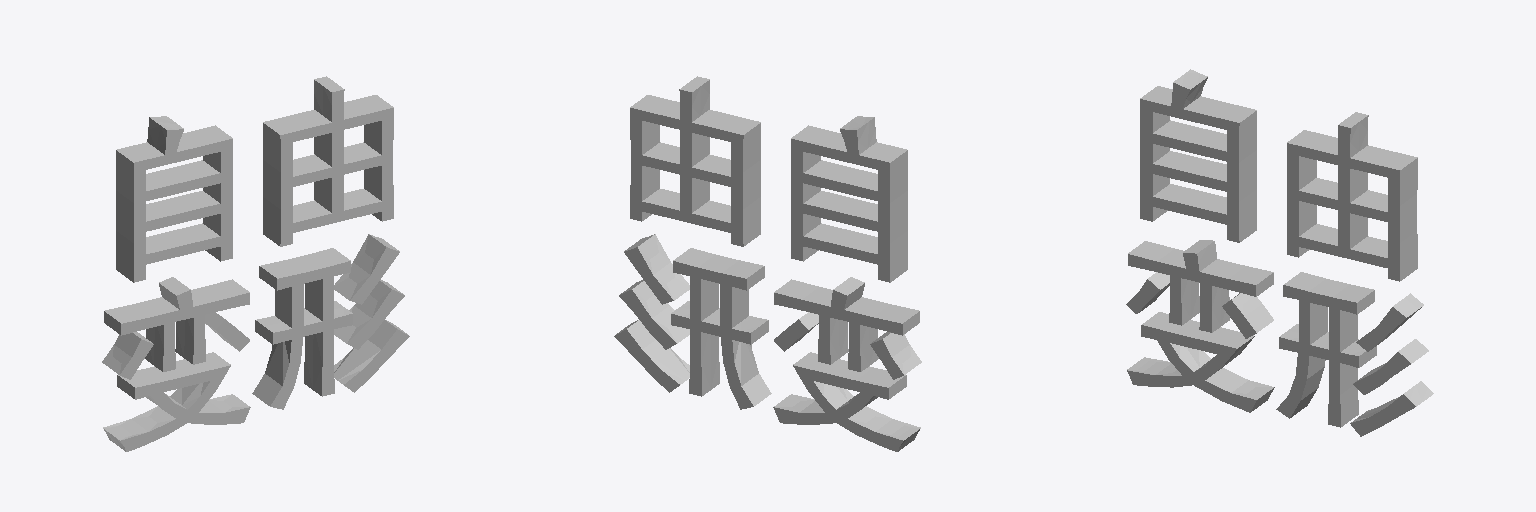
Rendered from deformation1.obj.
3 views of the same model, side by side, from view 1: azimuth 30°, elevation 25°; view 2: azimuth 150°, elevation 25°; view 3: azimuth 330°, elevation 25° (orthographic).
Parts seen in each view (by area): view 1: Default object_29, Default object_55, Default object_81, Default object_115, Default object_145, Default object_45, Default object_17, Default object_83, Default object_98, Default object_101, Default object_67, Default object_80 (+25 smaller); view 2: Default object_30, Default object_56, Default object_82, Default object_116, Default object_146, Default object_45, Default object_17, Default object_83, Default object_98, Default object_101, Default object_67, Default object_80 (+25 smaller); view 3: Default object_29, Default object_55, Default object_81, Default object_115, Default object_145, Default object_51, Default object_23, Default object_101, Default object_80, Default object_41, Default object_37, Default object_33 (+21 smaller).
Part boxes in pixels (x1,y1,x2,y2): Default object_29: (280, 89, 393, 246); Default object_55: (134, 129, 232, 282); Default object_81: (270, 261, 352, 409); Default object_115: (121, 365, 250, 451); Default object_145: (121, 290, 249, 371); Default object_45: (116, 150, 133, 282); Default object_17: (263, 123, 280, 245); Default object_83: (334, 320, 396, 384); Default object_98: (334, 234, 385, 300); Default object_101: (118, 352, 230, 387); Default object_67: (252, 340, 291, 405); Default object_80: (260, 248, 350, 278); Default object_30: (630, 89, 743, 246); Default object_56: (791, 129, 889, 282); Default object_82: (671, 261, 753, 409); Default object_116: (773, 365, 902, 451); Default object_146: (774, 290, 902, 371); Default object_45: (890, 150, 907, 282); Default object_17: (743, 123, 760, 245); Default object_83: (627, 320, 689, 384); Default object_98: (638, 234, 689, 300); Default object_101: (793, 352, 905, 387); Default object_67: (732, 340, 771, 405); Default object_80: (673, 248, 763, 278); Default object_29: (1287, 125, 1399, 281); Default object_55: (1140, 83, 1239, 242); Default object_81: (1276, 285, 1358, 427); Default object_115: (1127, 325, 1256, 412); Default object_145: (1128, 253, 1255, 332); Default object_51: (1239, 111, 1256, 241); Default object_23: (1400, 158, 1417, 280); Default object_101: (1142, 312, 1253, 348); Default object_80: (1284, 272, 1373, 302); Default object_41: (1153, 120, 1226, 151); Default object_37: (1153, 151, 1226, 181); Default object_33: (1153, 184, 1226, 214).
Bounding box in the file's own units: 18.81 × 19.34 × 2.